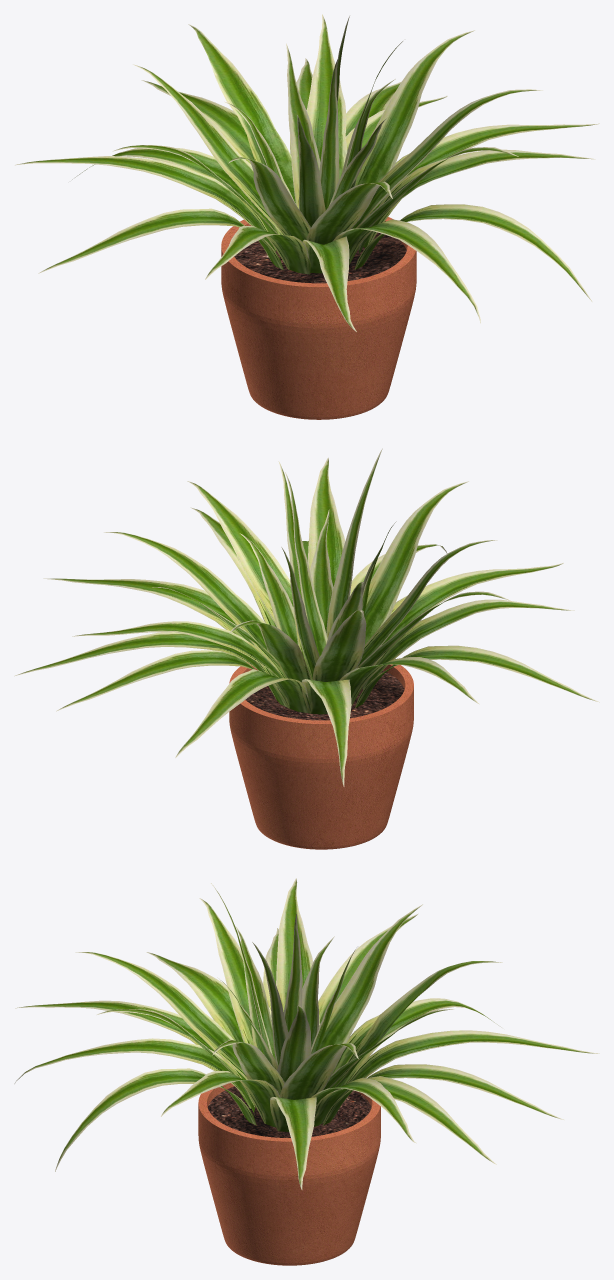
File: spider-plant.glb
The picture shows the model from 3 angles, top to bottom: view 1: azimuth 30°, elevation 25°; view 2: azimuth 150°, elevation 25°; view 3: azimuth 270°, elevation 25°; orthographic projection. The views are drawn at different scales.
Visible parts, largest first — view 1: Cylinder.002, Plane.032, Plane.030, Plane.021, Cylinder.003, Plane.016, Plane.029, Plane.020, Plane.031, Plane.017, Plane.015, Plane.027 (+16 smaller); view 2: Cylinder.002, Plane.035, Plane.032, Plane.033, Plane.023, Plane.024, Plane.026, Plane.019, Plane.029, Plane.020, Plane.022, Plane.034 (+16 smaller); view 3: Cylinder.002, Plane.029, Cylinder.003, Plane.023, Plane.035, Plane.017, Plane.016, Plane.027, Plane.024, Plane.044, Plane.028, Plane.019 (+19 smaller).
Boxes of the visible parts, bbox=[...] form: Cylinder.002: bbox=[221, 217, 416, 419]; Plane.032: bbox=[355, 30, 474, 186]; Plane.030: bbox=[188, 24, 295, 203]; Plane.021: bbox=[15, 156, 275, 251]; Cylinder.003: bbox=[234, 232, 406, 283]; Plane.016: bbox=[354, 204, 592, 301]; Plane.029: bbox=[133, 64, 283, 234]; Plane.020: bbox=[38, 208, 283, 273]; Plane.031: bbox=[306, 14, 347, 179]; Plane.017: bbox=[333, 219, 480, 323]; Plane.015: bbox=[358, 149, 595, 256]; Plane.027: bbox=[228, 157, 310, 241]; Cylinder.002: bbox=[229, 662, 413, 849]; Plane.035: bbox=[364, 481, 468, 644]; Plane.032: bbox=[104, 532, 285, 678]; Plane.033: bbox=[187, 481, 293, 625]; Plane.023: bbox=[175, 669, 309, 757]; Plane.024: bbox=[56, 650, 287, 711]; Plane.026: bbox=[43, 578, 277, 677]; Plane.019: bbox=[362, 599, 574, 689]; Plane.029: bbox=[312, 610, 366, 681]; Plane.020: bbox=[355, 645, 599, 707]; Plane.022: bbox=[301, 679, 351, 786]; Plane.034: bbox=[308, 457, 351, 596]; Cylinder.002: bbox=[198, 1083, 380, 1265]; Plane.029: bbox=[318, 904, 422, 1049]; Cylinder.003: bbox=[207, 1086, 371, 1137]; Plane.023: bbox=[335, 1030, 599, 1115]; Plane.035: bbox=[75, 952, 247, 1079]; Plane.017: bbox=[14, 1038, 255, 1116]; Plane.016: bbox=[55, 1068, 256, 1171]; Plane.027: bbox=[199, 898, 271, 1045]; Plane.024: bbox=[322, 1064, 563, 1125]; Plane.044: bbox=[314, 1076, 496, 1164]; Plane.028: bbox=[276, 878, 319, 1024]; Plane.019: bbox=[146, 952, 243, 1042].
Bounding box in the file's own units: 2.13 × 1.31 × 2.01.
3 materials, 3 textured.
